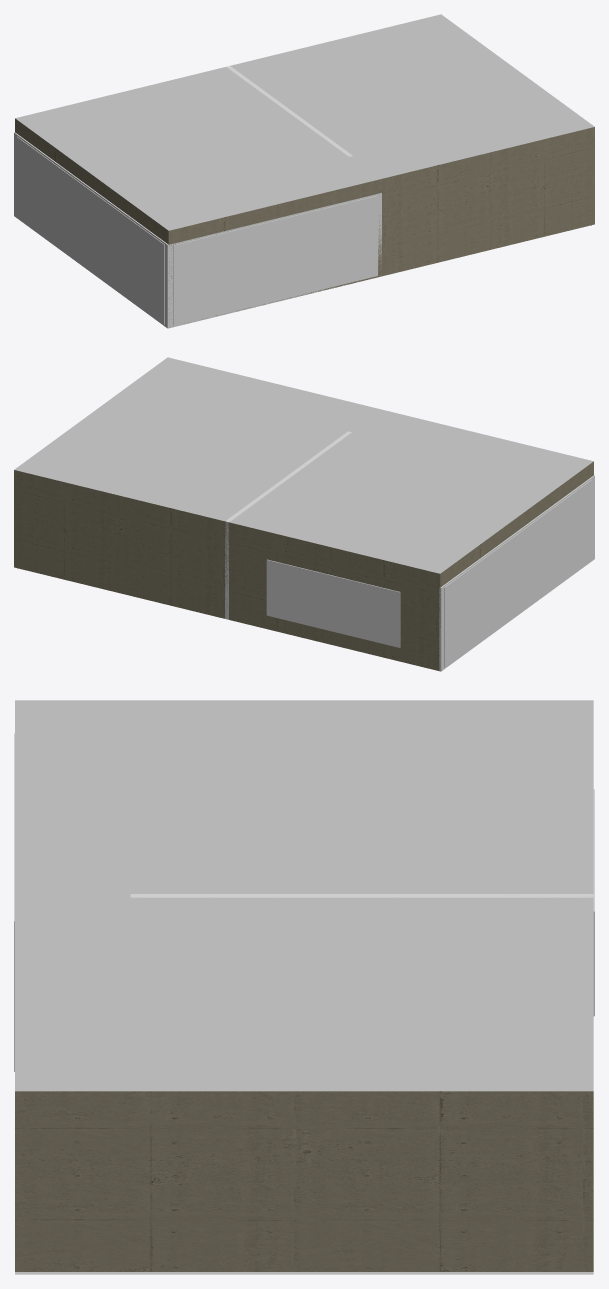
File: HoloZoom Room 1.fbx
3 renders of one model, top to bottom at view 1: azimuth 30°, elevation 25°; view 2: azimuth 150°, elevation 25°; view 3: azimuth 270°, elevation 25°, orthographic. The views are drawn at different scales.
Parts seen in each view (by area): view 1: Plane.008, Plane.005, Cube.002, Cube.003, Plane.007, Plane.003, Cube.001; view 2: Plane.008, Plane.006, Plane.001, Cube.003, Cube, Plane.003, Cube.001; view 3: Plane.008, Plane.004, Cube.001, Plane.
Boxes of the visible parts, x1,y1,x2,y2 form: Plane.008: (15, 14, 594, 230); Plane.005: (382, 127, 594, 276); Cube.002: (168, 193, 381, 328); Cube.003: (14, 132, 169, 328); Plane.007: (168, 179, 381, 319); Plane.003: (15, 118, 168, 244); Cube.001: (226, 66, 352, 156); Plane.008: (14, 357, 593, 573); Plane.006: (14, 470, 226, 618); Plane.001: (227, 522, 440, 670); Cube.003: (439, 475, 594, 671); Cube: (266, 559, 400, 647); Plane.003: (440, 461, 593, 587); Cube.001: (225, 431, 351, 619); Plane.008: (15, 700, 593, 1091); Plane.004: (15, 1091, 593, 1271); Cube.001: (130, 894, 593, 897); Plane: (15, 1272, 593, 1274).
Size of the model in its own units: 1606 by 352 by 1004.
